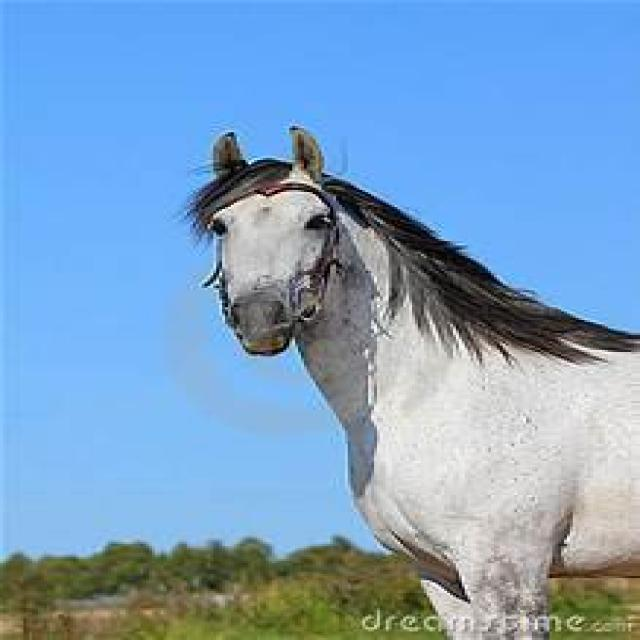horse: (184, 128, 640, 640)
